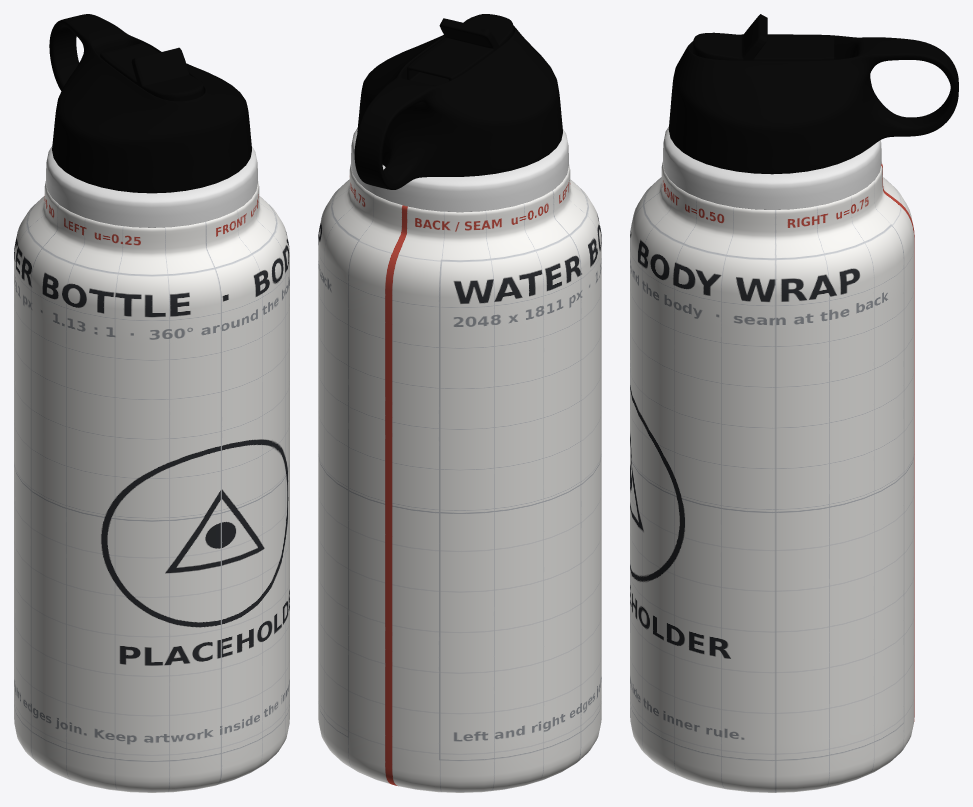
File: water-bottle.glb
3 views of the same model, side by side, from view 1: azimuth 30°, elevation 25°; view 2: azimuth 150°, elevation 25°; view 3: azimuth 270°, elevation 25° (orthographic). The views are drawn at different scales.
Parts seen in each view (by area): view 1: Cylinder002, Object003_PVC Black Matte_0, Box002; view 2: Cylinder002, Object003_PVC Black Matte_0, Box002; view 3: Cylinder002, Object003_PVC Black Matte_0, Box002.
Part boxes in pixels (left/top/right/bottom): Cylinder002: left=14, top=146, right=289, bottom=792; Object003_PVC Black Matte_0: left=49, top=14, right=251, bottom=193; Box002: left=100, top=43, right=203, bottom=101; Cylinder002: left=318, top=128, right=601, bottom=792; Object003_PVC Black Matte_0: left=354, top=25, right=562, bottom=189; Box002: left=407, top=14, right=513, bottom=85; Cylinder002: left=630, top=126, right=914, bottom=792; Object003_PVC Black Matte_0: left=668, top=34, right=958, bottom=174; Box002: left=693, top=14, right=834, bottom=60.
Bounding box in the file's own units: 0.0437 × 0.1213 × 0.0506.
Materials: 4 (1 with a texture image).
